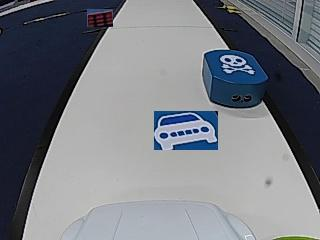danger: (220, 53, 253, 75)
